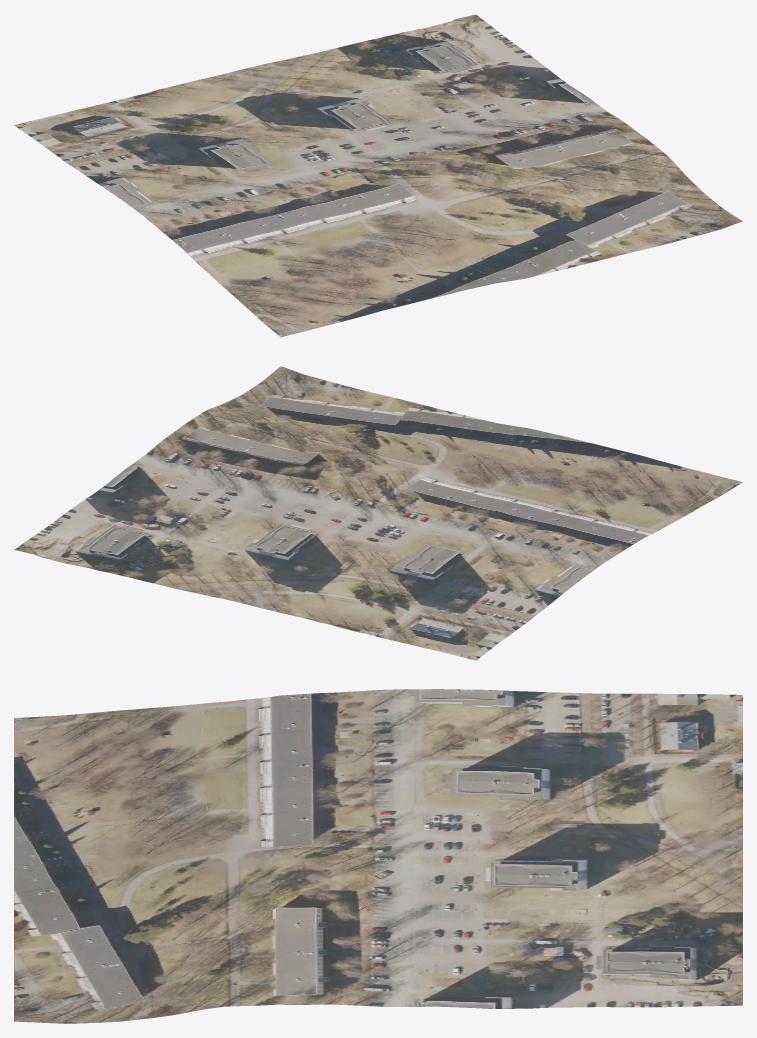
File: CM_Terrain_24488820_6821636.fbx
The picture shows the model from 3 angles, top to bottom: view 1: azimuth 30°, elevation 25°; view 2: azimuth 150°, elevation 25°; view 3: azimuth 270°, elevation 25°; orthographic projection. The views are drawn at different scales.
Parts seen in each view (by area): view 1: CM_Terrain_24488820_6821636_LOD0; view 2: CM_Terrain_24488820_6821636_LOD0; view 3: CM_Terrain_24488820_6821636_LOD0.
Part boxes in pixels (x1=…): CM_Terrain_24488820_6821636_LOD0: x1=14, y1=14, x2=742, y2=337; CM_Terrain_24488820_6821636_LOD0: x1=14, y1=366, x2=742, y2=660; CM_Terrain_24488820_6821636_LOD0: x1=14, y1=689, x2=742, y2=1023.
Size of what is drawn, in the model's own units: 205 by 10.28 by 205.
